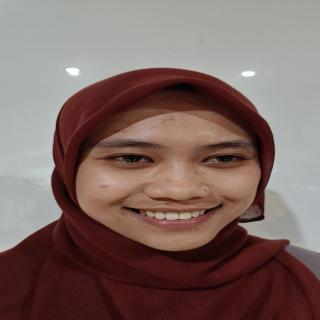Senang: (65, 86, 267, 256)
